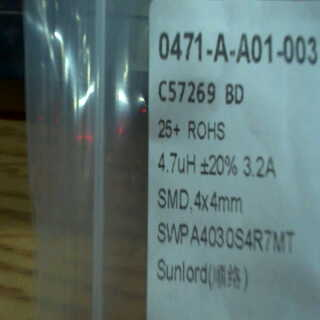4.7uH: (150, 150, 202, 181)
